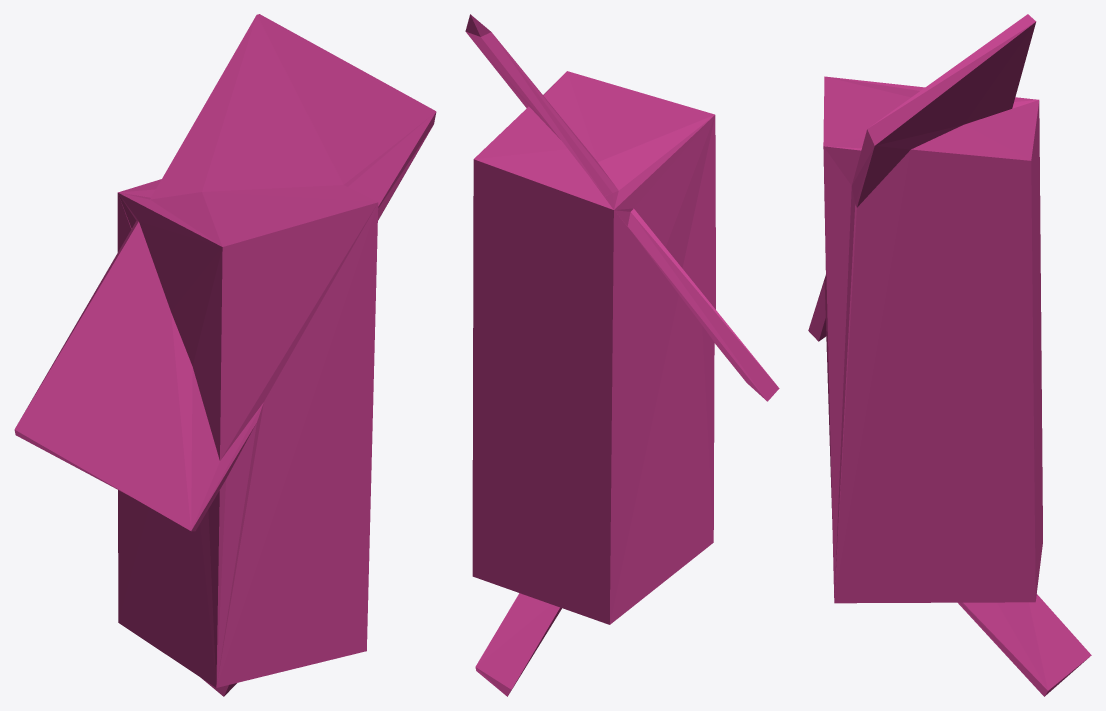
3 renders of one model, left to right at view 1: azimuth 30°, elevation 25°; view 2: azimuth 150°, elevation 25°; view 3: azimuth 270°, elevation 25°, orthographic. The views are drawn at different scales.
Parts seen in each view (by area): view 1: 732_Cube.2936; view 2: 732_Cube.2936; view 3: 732_Cube.2936.
Part boxes in pixels (x1,y1,x2,y2): 732_Cube.2936: (14,14,436,696); 732_Cube.2936: (465,14,779,696); 732_Cube.2936: (808,14,1091,696).
Bounding box in the file's own units: 10.8 × 18.83 × 6.96.
